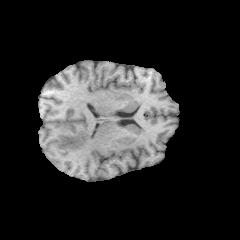glioma: (53, 131, 100, 153)
